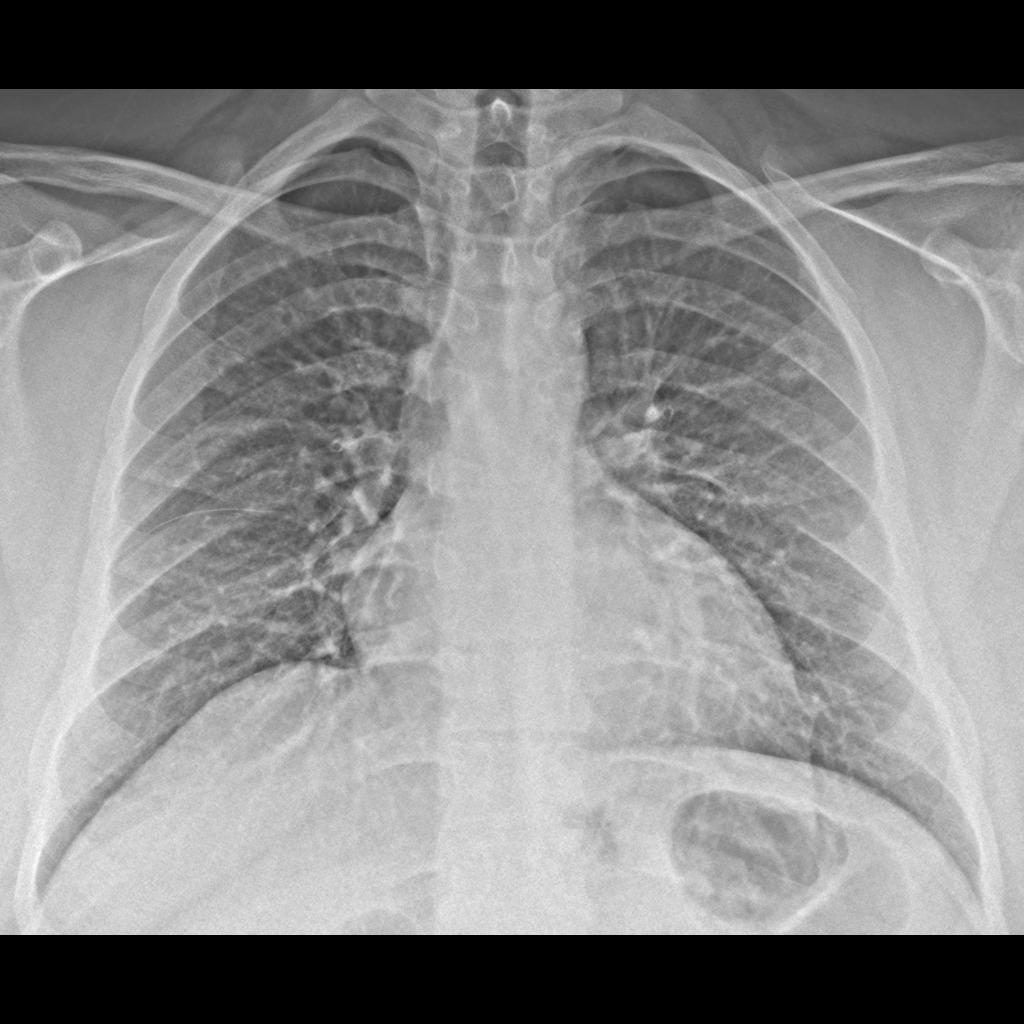Nodule: (766, 340, 832, 397)
